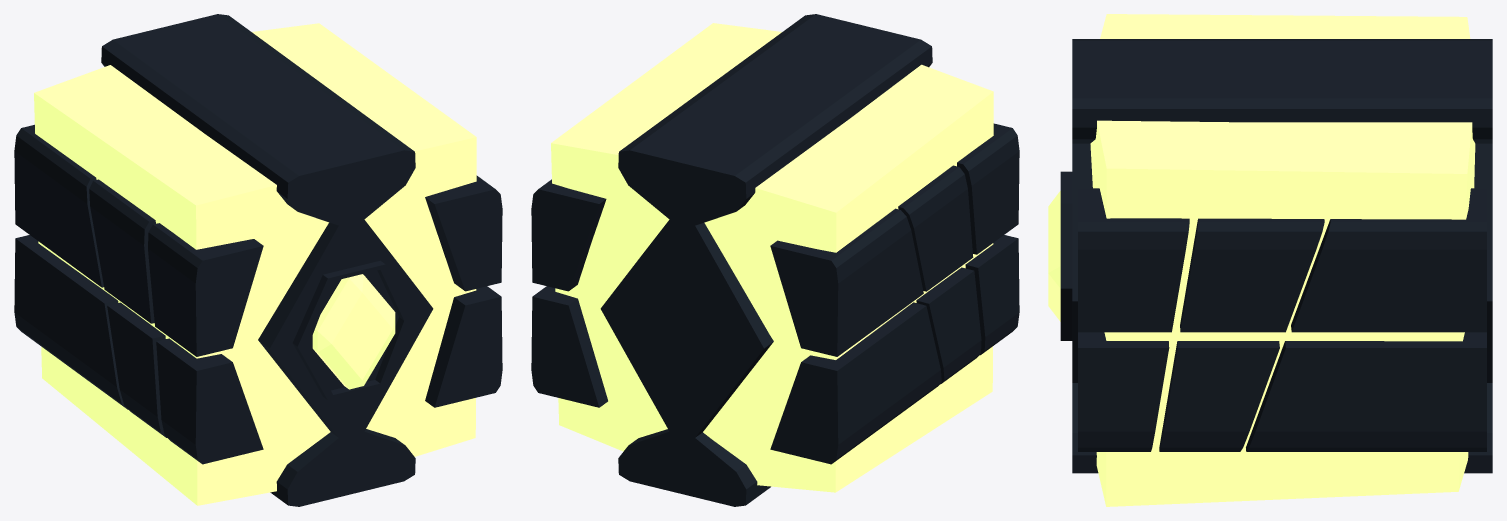
3 renders of one model, left to right at view 1: azimuth 30°, elevation 25°; view 2: azimuth 150°, elevation 25°; view 3: azimuth 270°, elevation 25°, orthographic. The views are drawn at different scales.
Visible parts, largest first — view 1: Base, side_shell, mid_shell, Diamond; view 2: Base, side_shell, mid_shell; view 3: side_shell, Base, mid_shell, Diamond.
Boxes of the visible parts, x1=… form: Base: x1=34, y1=23, x2=476, y2=505; side_shell: x1=14, y1=124, x2=502, y2=464; mid_shell: x1=101, y1=14, x2=433, y2=506; Diamond: x1=312, y1=274, x2=395, y2=389; Base: x1=551, y1=23, x2=993, y2=492; side_shell: x1=531, y1=123, x2=1019, y2=464; mid_shell: x1=600, y1=14, x2=932, y2=506; side_shell: x1=1078, y1=188, x2=1486, y2=451; Base: x1=1090, y1=14, x2=1475, y2=506; mid_shell: x1=1060, y1=39, x2=1492, y2=473; Diamond: x1=1048, y1=191, x2=1060, y2=321.
Size of the model in its own units: 196 by 202 by 218.
